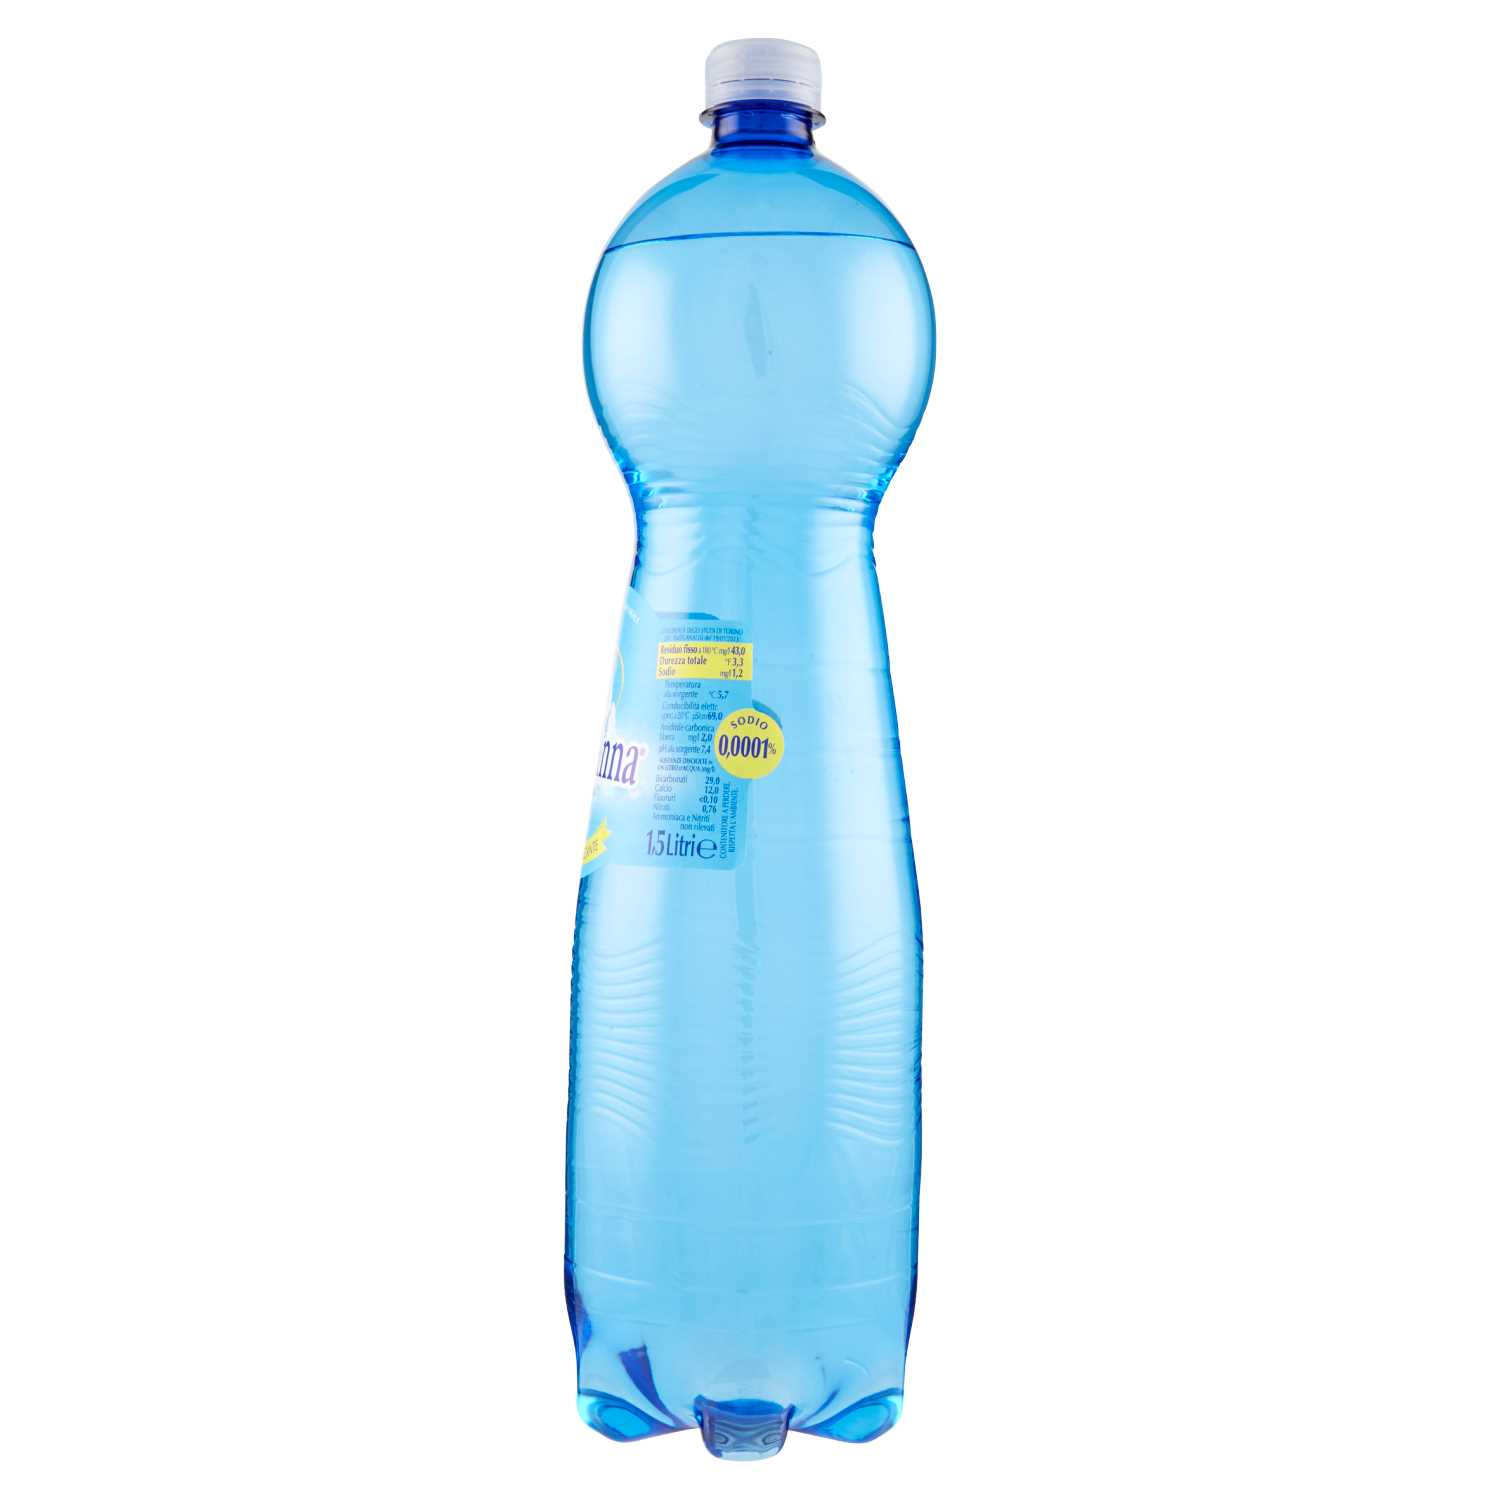PlasticBottle: (556, 34, 949, 1468)
